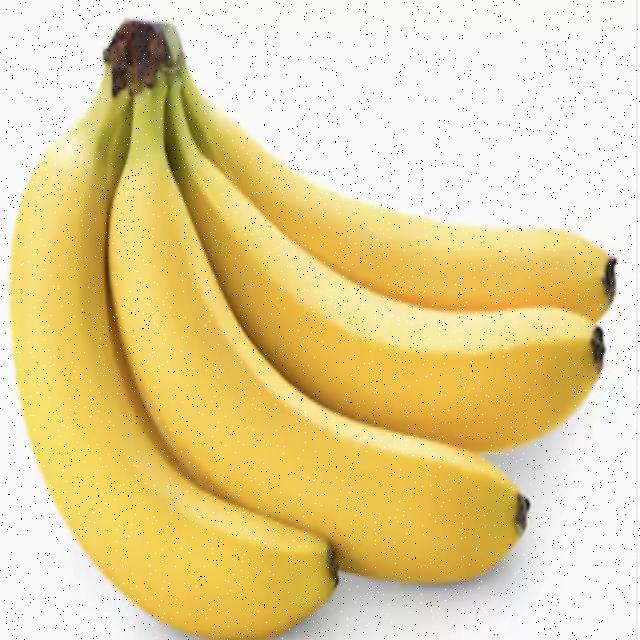god quality banana: (10, 21, 617, 636)
